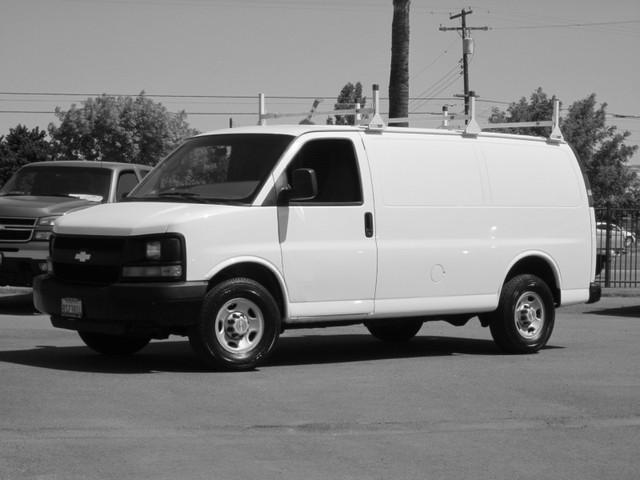car: (33, 84, 606, 379)
